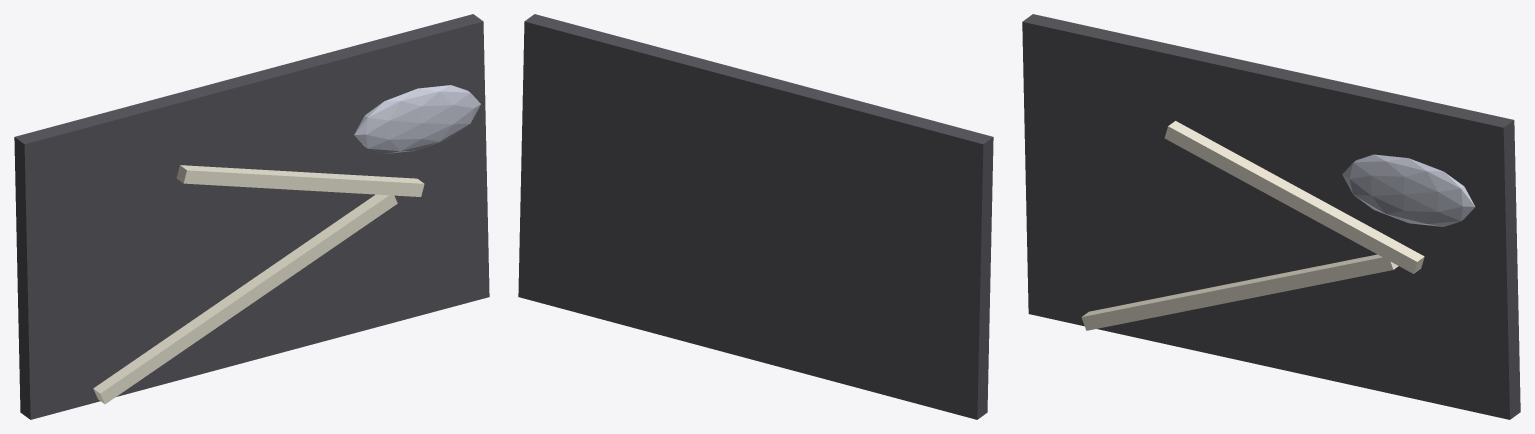
The model's file is 04_weathering_wear_overlay_4.glb.
3 renders of one model, left to right at view 1: azimuth 30°, elevation 25°; view 2: azimuth 150°, elevation 25°; view 3: azimuth 330°, elevation 25°, orthographic. The views are drawn at different scales.
Visible parts, largest first — view 1: wear_plate, scratch_a, rust_or_moss_spot, scratch_b; view 2: wear_plate; view 3: wear_plate, rust_or_moss_spot, scratch_b, scratch_a.
Boxes of the visible parts, <box> form: wear_plate: <box>14,14,489,419</box>; scratch_a: <box>93,194,397,404</box>; rust_or_moss_spot: <box>354,85,480,153</box>; scratch_b: <box>176,165,424,196</box>; wear_plate: <box>518,14,993,419</box>; wear_plate: <box>1022,14,1520,419</box>; rust_or_moss_spot: <box>1342,154,1475,226</box>; scratch_b: <box>1164,121,1424,273</box>; scratch_a: <box>1081,254,1398,330</box>.
Bounding box in the file's own units: 1.32 × 0.7794 × 0.134.
